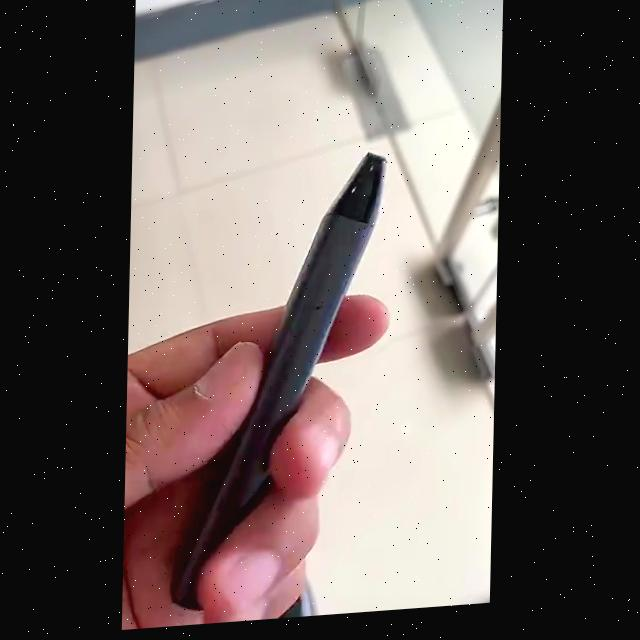vape: (175, 156, 389, 614)
